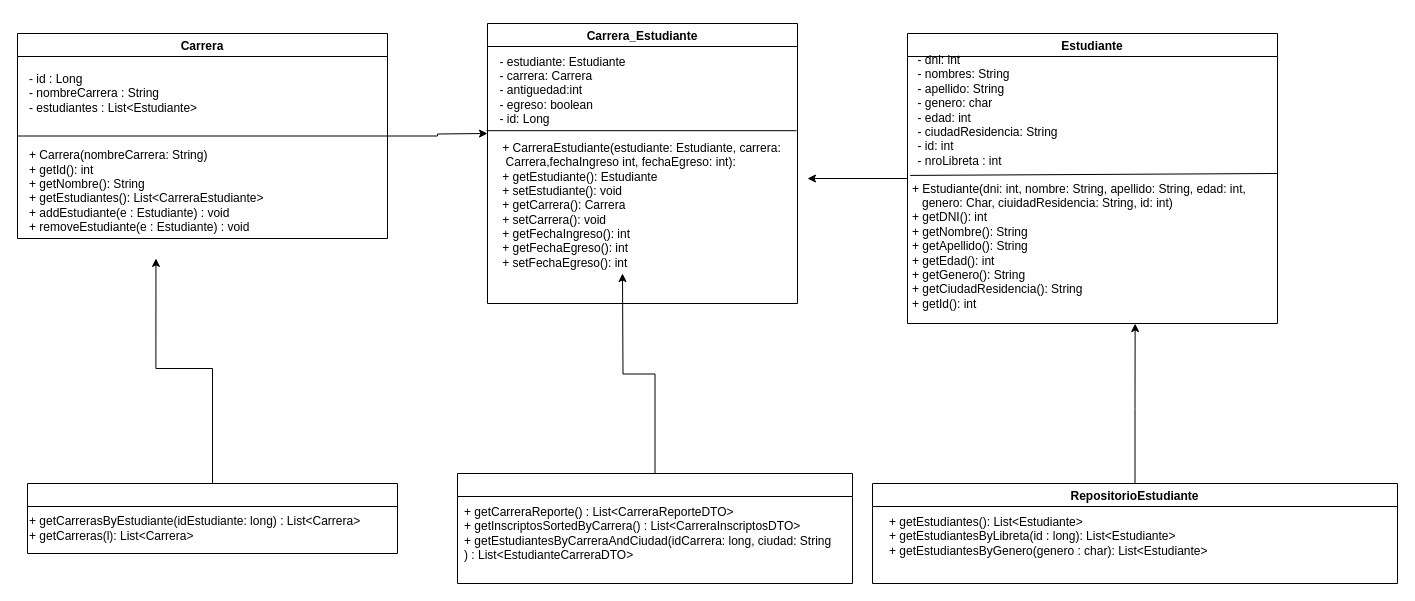
Some shapes in this 1415 by 601 pixel diagram are drawn without their labels. The box of each missing label's shape, as (x1, y1, x2, y2) in pixels:
RepositorioCarrera: (26, 482, 398, 554)
RepositorioCarrera_Estudiante: (456, 472, 852, 584)
